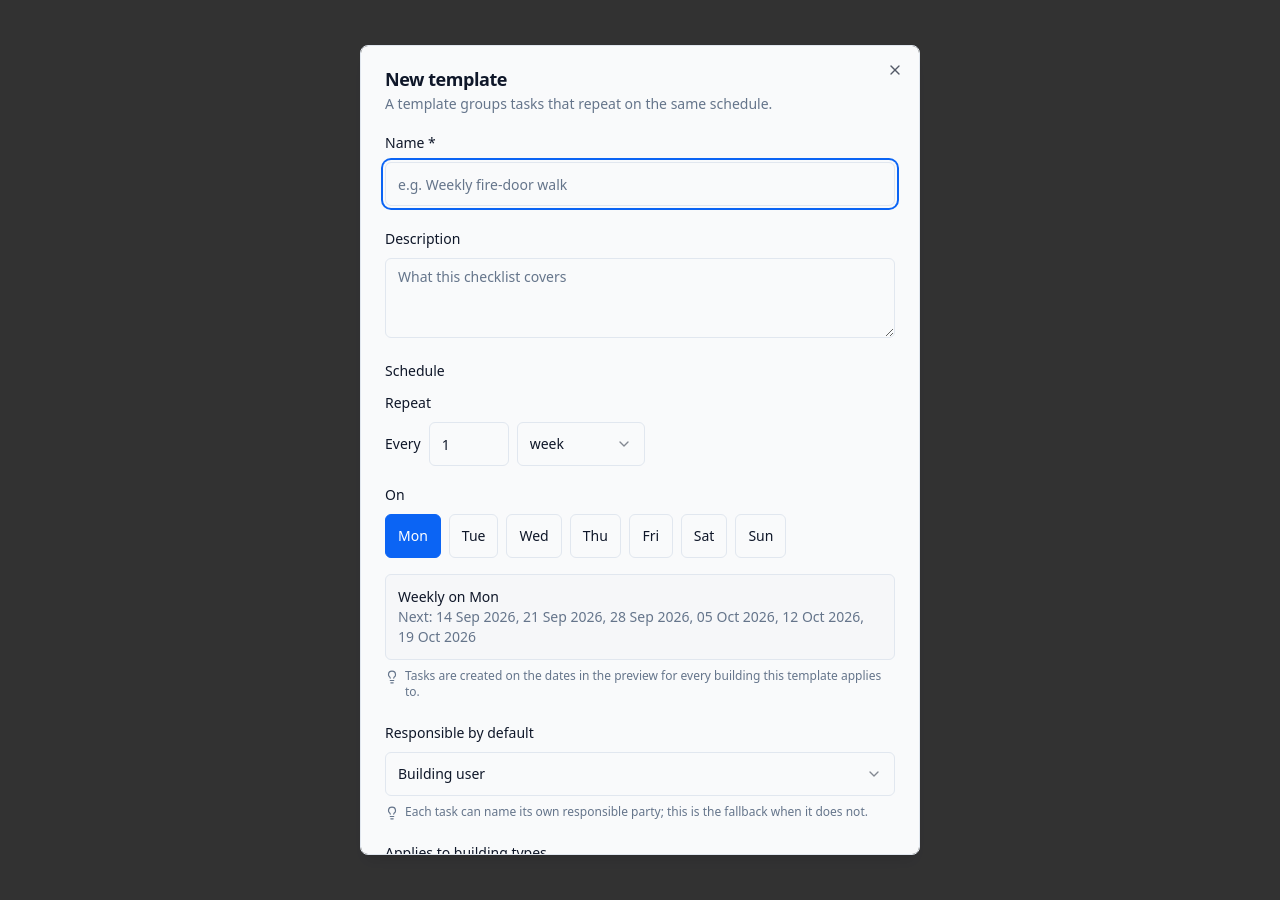
Test: TemplateDialog › keeps Create disabled until a name is entered and says why in plain text
Type "Roof drains" into the field labelled "Name *".
click(640, 184); type("Roof drains")  # box left=385, top=162, right=895, bottom=206
(page scrolled)
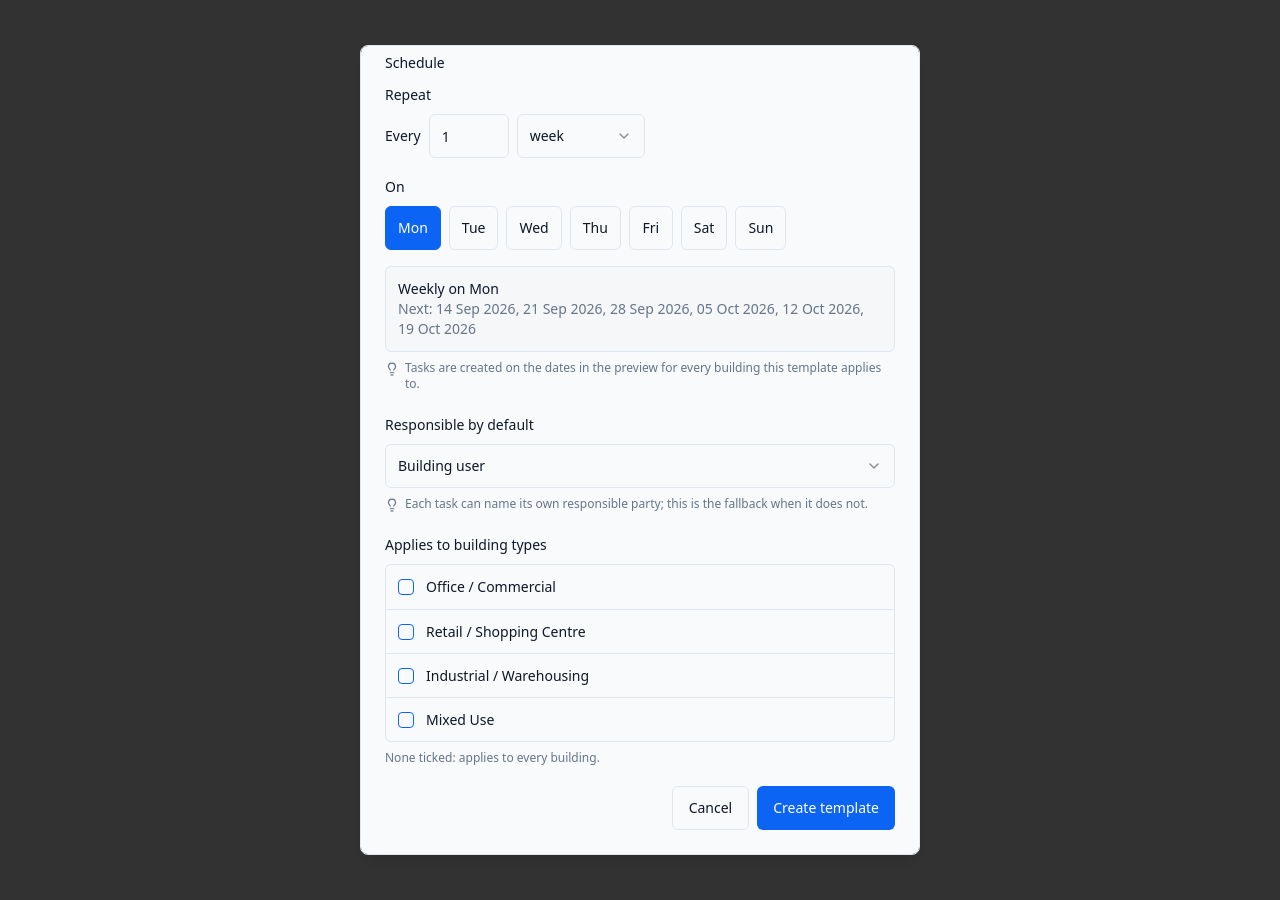
Check: the button "Create template" is enabled, box left=757, top=786, right=895, bottom=830
